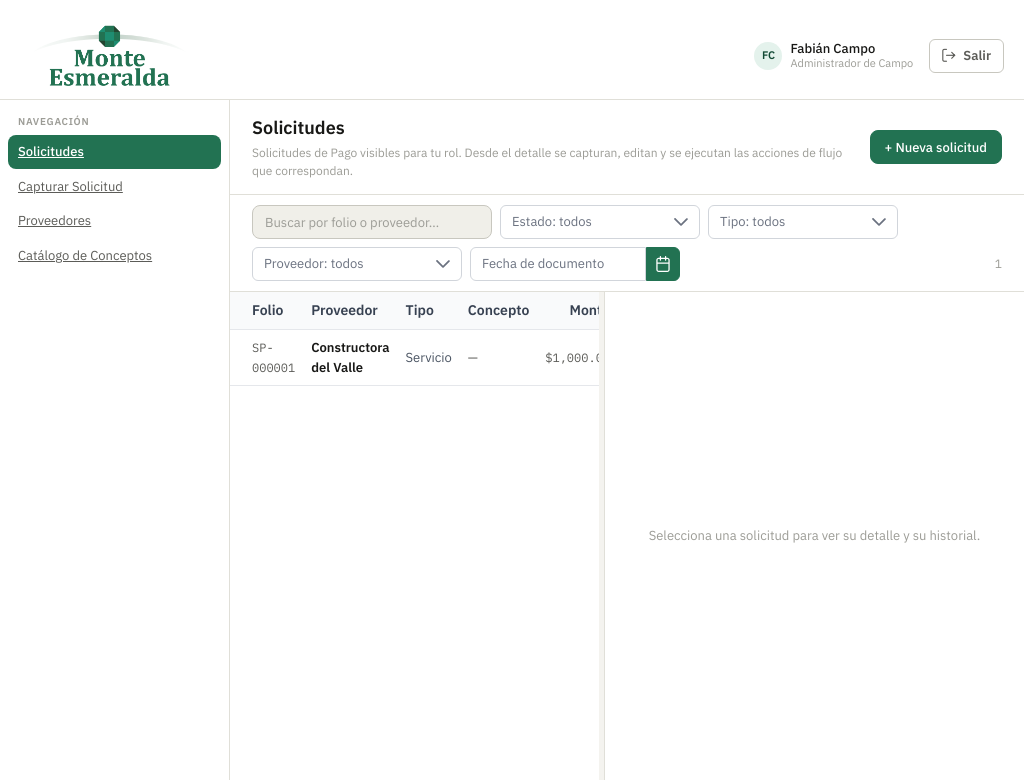
Test case: enviar sin adjuntos está deshabilitado y avisa por qué
What coordinates should you click on to do the following:
click the text "SP-000001"
I would click on:
 (263, 348)
Its box is [252, 340, 295, 374].
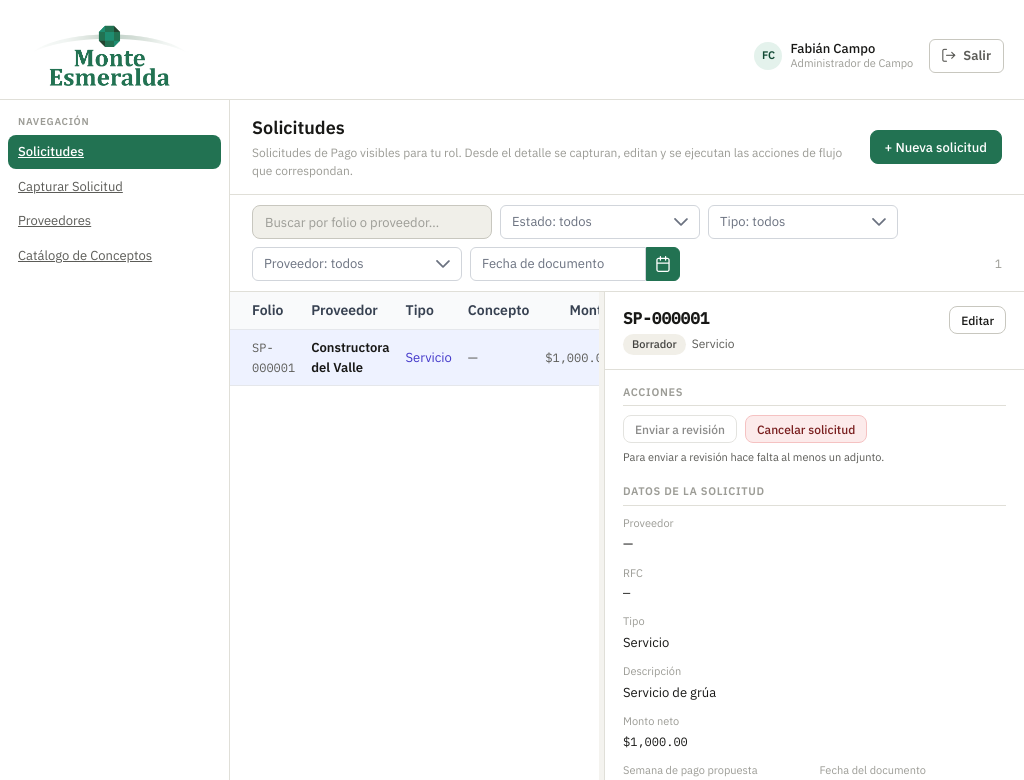
expect the text "Acciones" is shown: met, box [623, 384, 1006, 406]
expect the button "Enviar a revisión" is disabled: met, box [623, 415, 737, 443]
expect the text "Para enviar a revisión hace falta al menos un adjunto." is shown: met, box [623, 450, 884, 464]
